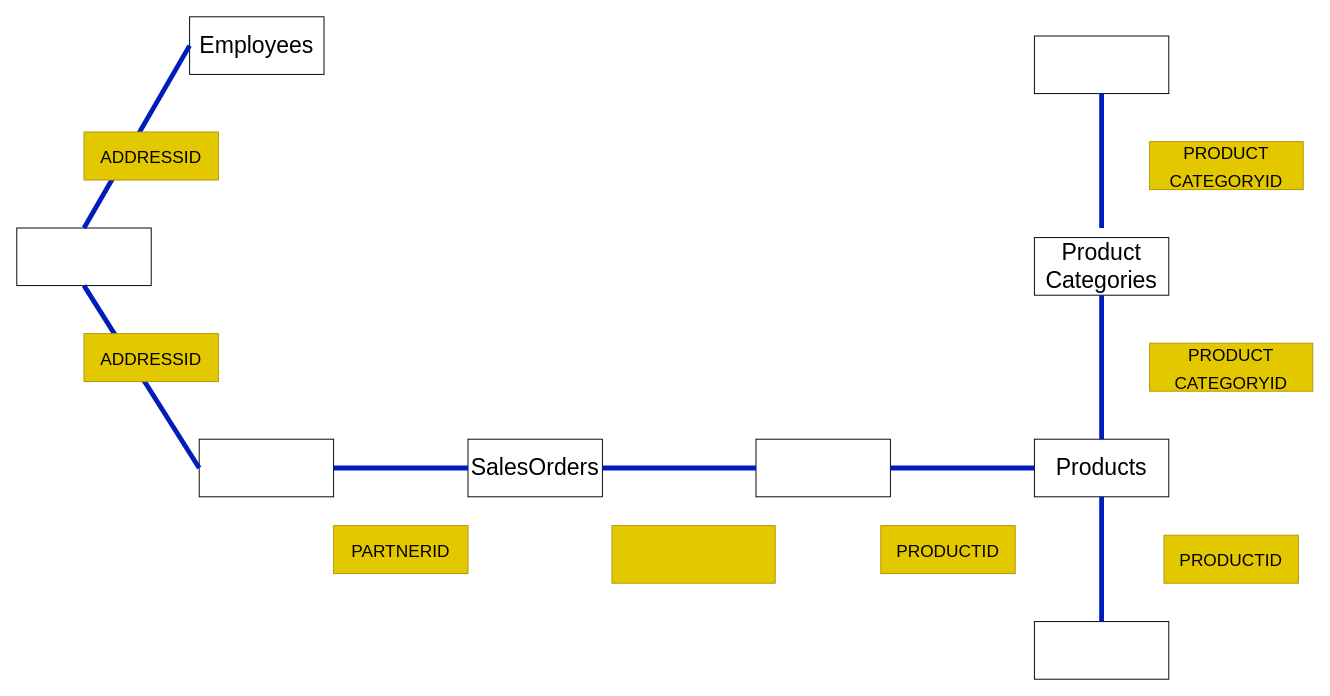
Image size: 1330x696. Some labels were removed from this diagram. The shapes that lost their labels are listed below. From the top down, each one's box as (x1, y1, x2, y2) in pixels, then its label:
(1033, 35, 1169, 94): product CategoryText
(16, 227, 151, 286): Adresses
(198, 438, 334, 497): Business Partners
(755, 438, 890, 497): SalesOrder Items
(611, 525, 775, 583): SALESORDER ID
(1033, 621, 1169, 679): ProductTexts
